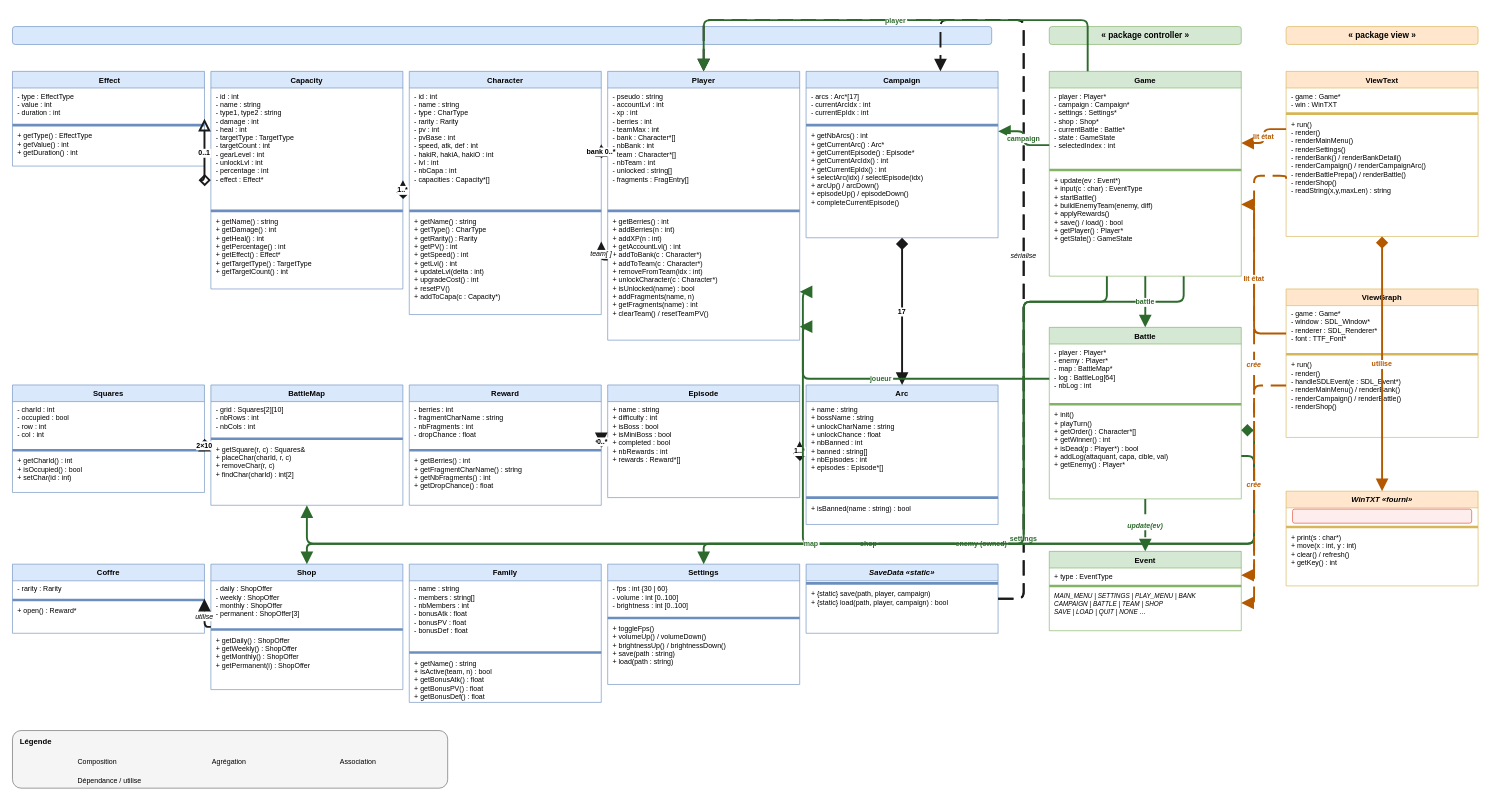
The diagram is 1490 pixels wide and 799 high, and some of its shapes have lost their labels. Here are the shapes that lost their labels. From the top down, the centre of each, then its label:
pixel 502 35: « package model »
pixel 1382 515: ⛔ Ne pas modifier
